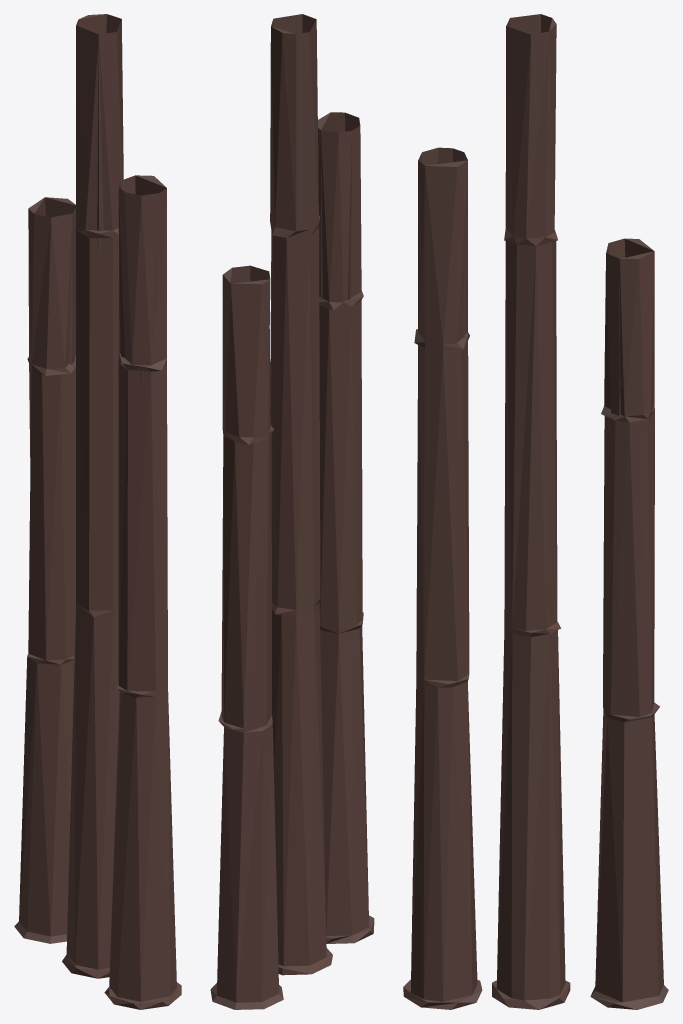
File: ew-smoke-stacks.far-facades-v1.lod2.glb
The picture shows the model from 3 angles, left to right: view 1: azimuth 30°, elevation 25°; view 2: azimuth 150°, elevation 25°; view 3: azimuth 270°, elevation 25°; orthographic projection. The views are drawn at different scales.
Parts seen in each view (by area): view 1: ew-smoke-stacks; view 2: ew-smoke-stacks; view 3: ew-smoke-stacks.
Boxes of the visible parts, bbox=[...] form: ew-smoke-stacks: bbox=[14, 14, 181, 1009]; ew-smoke-stacks: bbox=[210, 14, 374, 1009]; ew-smoke-stacks: bbox=[403, 14, 668, 1009].
Bounding box in the file's own units: 3.27 × 44 × 10.93.
